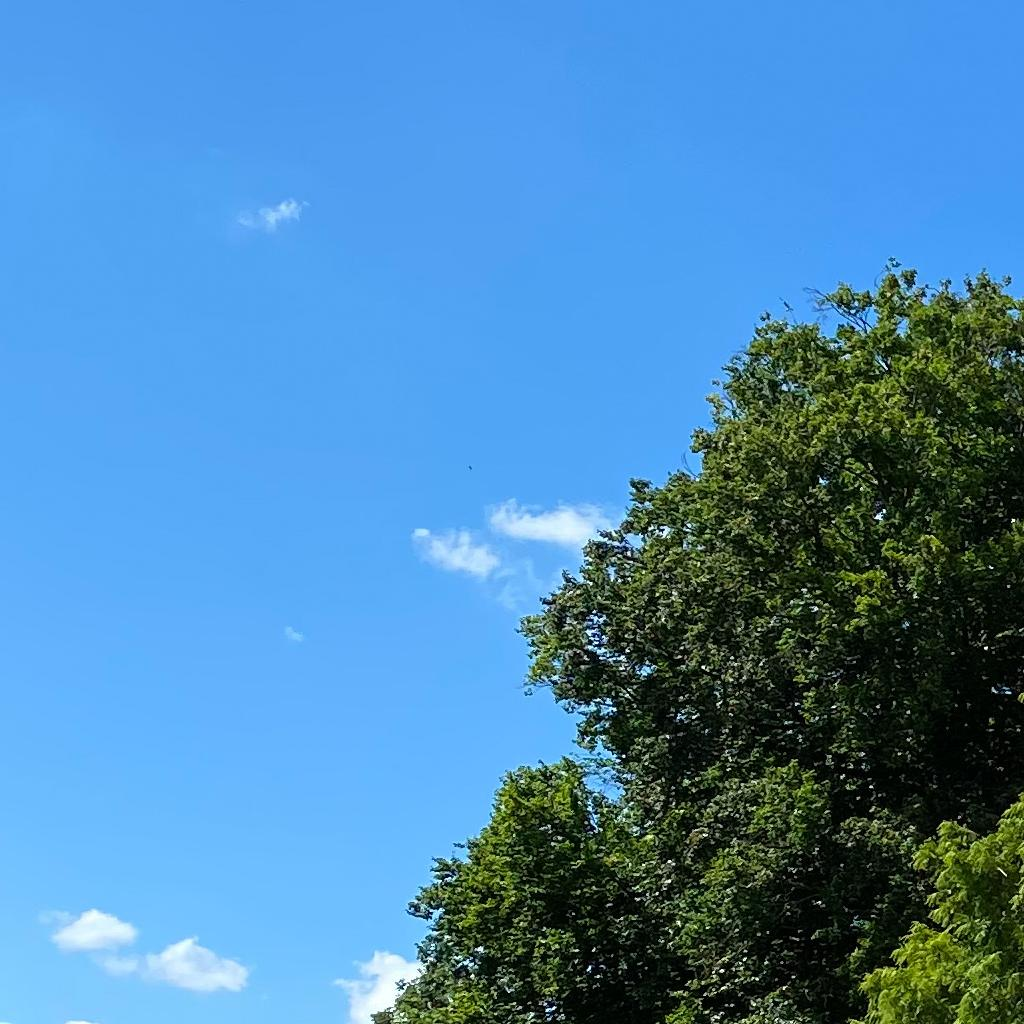tree: (368, 255, 1023, 1023)
